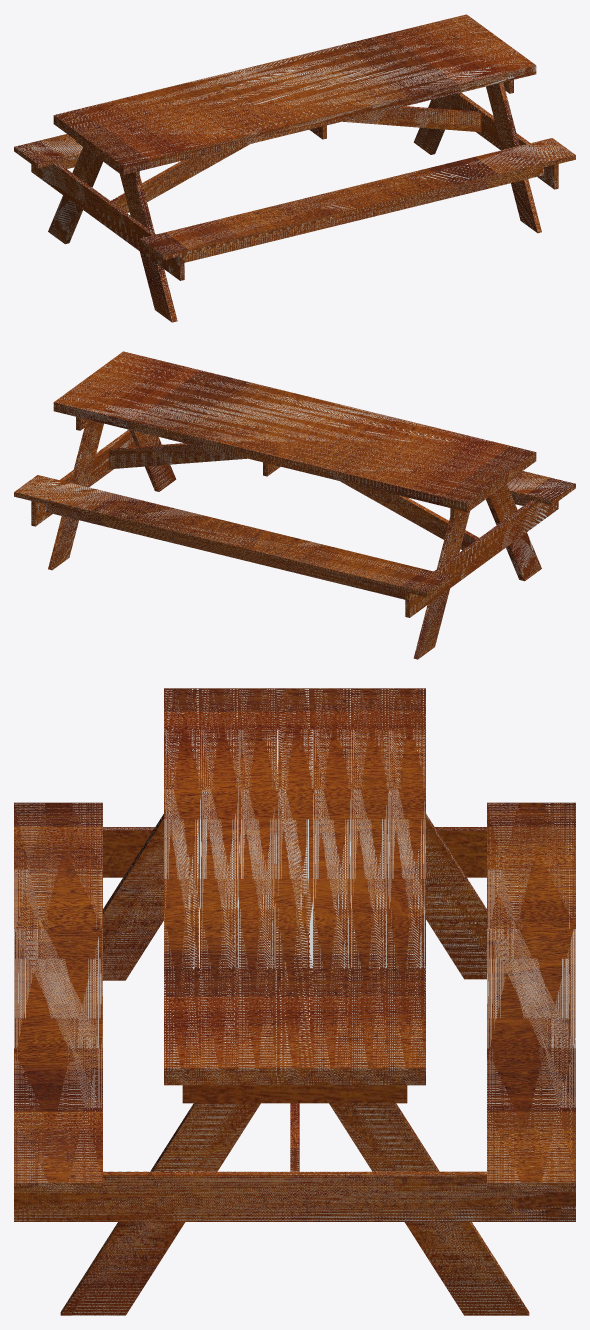
3 renders of one model, top to bottom at view 1: azimuth 30°, elevation 25°; view 2: azimuth 150°, elevation 25°; view 3: azimuth 270°, elevation 25°, orthographic. The views are drawn at different scales.
Parts seen in each view (by area): view 1: mesh1_mesh1-geometry; view 2: mesh1_mesh1-geometry; view 3: mesh1_mesh1-geometry.
Part boxes in pixels (x1=…): mesh1_mesh1-geometry: x1=14, y1=14, x2=575, y2=322; mesh1_mesh1-geometry: x1=14, y1=351, x2=575, y2=659; mesh1_mesh1-geometry: x1=14, y1=688, x2=575, y2=1315.
Size of the model in its own units: 0.817 by 0.2681 by 0.5106.
